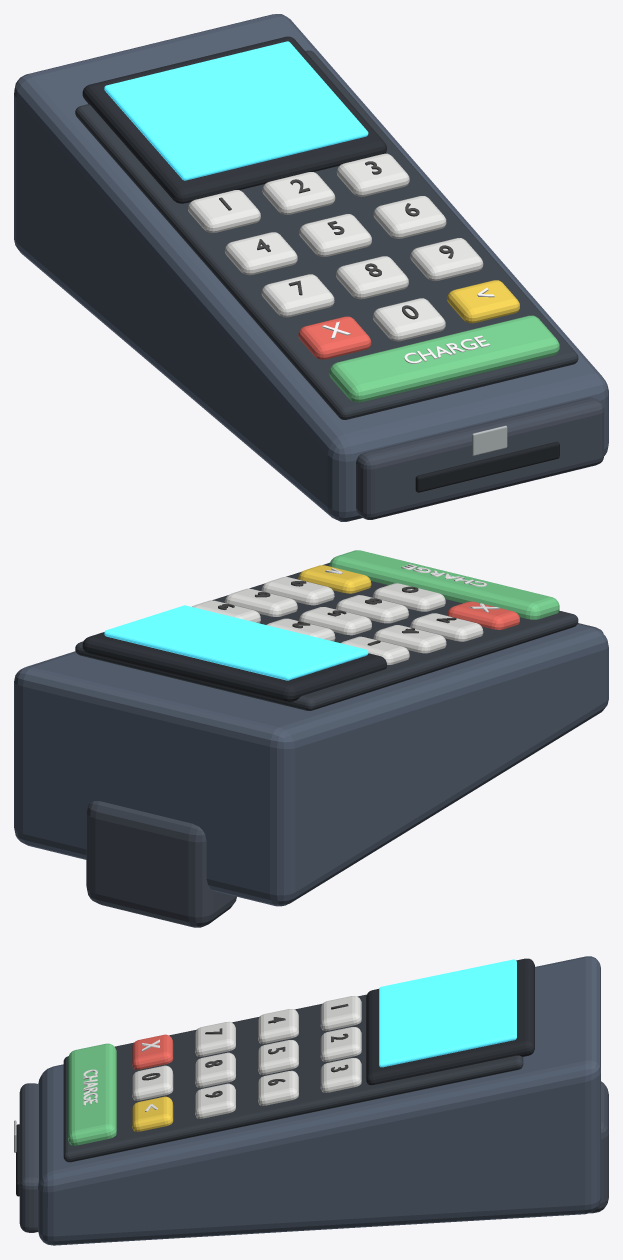
File: terminal.glb
3 views of the same model, one above another, from view 1: azimuth 30°, elevation 25°; view 2: azimuth 150°, elevation 25°; view 3: azimuth 270°, elevation 25° (orthographic). The views are drawn at different scales.
Visible parts, largest first — view 1: POS_Body, POS_TopPanel, POS_Screen, POS_FrontLip, POS_Key_Charge, POS_ScreenFrame, POS_CardSlot, POS_Key_1, POS_Key_7, POS_Key_Clear, POS_Key_3, POS_Key_4 (+8 smaller); view 2: POS_Body, POS_RearHeel, POS_Screen, POS_TopPanel, POS_ScreenFrame, POS_Key_Charge, POS_Key_Clear, POS_Key_7, POS_Key_4, POS_Key_9, POS_Key_5, POS_Key_6 (+6 smaller); view 3: POS_Body, POS_TopPanel, POS_Screen, POS_ScreenFrame, POS_Key_Charge, POS_FrontLip, POS_Key_1, POS_Key_Clear, POS_Key_2, POS_Key_3, POS_Key_7, POS_Key_5 (+7 smaller).
Boxes of the visible parts, x1,y1,x2,y2 form: POS_Body: [14, 14, 608, 521]; POS_TopPanel: [75, 50, 578, 419]; POS_Screen: [104, 41, 368, 180]; POS_FrontLip: [356, 397, 604, 519]; POS_Key_Charge: [329, 315, 559, 402]; POS_ScreenFrame: [82, 36, 386, 203]; POS_CardSlot: [415, 441, 559, 492]; POS_Key_1: [188, 190, 260, 233]; POS_Key_7: [261, 274, 334, 317]; POS_Key_Clear: [447, 280, 519, 323]; POS_Key_3: [336, 153, 409, 196]; POS_Key_4: [224, 232, 297, 275]; POS_Body: [14, 624, 608, 906]; POS_RearHeel: [86, 801, 236, 927]; POS_Screen: [104, 605, 368, 680]; POS_TopPanel: [75, 562, 578, 710]; POS_ScreenFrame: [82, 632, 386, 702]; POS_Key_Charge: [329, 550, 559, 619]; POS_Key_Clear: [298, 565, 371, 593]; POS_Key_7: [410, 613, 483, 641]; POS_Key_4: [373, 625, 446, 653]; POS_Key_9: [261, 577, 334, 605]; POS_Key_5: [299, 607, 371, 635]; POS_Key_6: [224, 588, 297, 616]; POS_Body: [38, 956, 600, 1245]; POS_TopPanel: [63, 994, 523, 1162]; POS_Screen: [379, 959, 516, 1067]; POS_ScreenFrame: [366, 958, 534, 1085]; POS_Key_Charge: [68, 1043, 116, 1145]; POS_FrontLip: [19, 1083, 38, 1232]; POS_Key_1: [320, 996, 361, 1030]; POS_Key_Clear: [132, 1096, 173, 1131]; POS_Key_2: [320, 1027, 361, 1061]; POS_Key_3: [320, 1058, 361, 1092]; POS_Key_7: [195, 1021, 235, 1056]; POS_Key_5: [258, 1040, 298, 1074].
Bounding box in the file's own units: 0.105 × 0.0823 × 0.2272.
